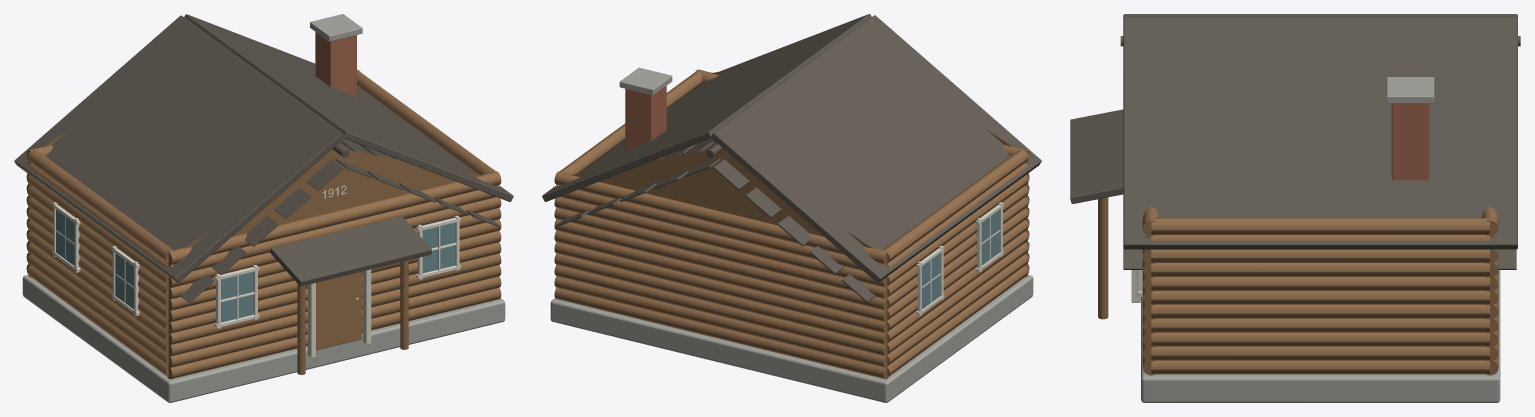
Rendered from Building_Log_Cabin_Detailed_01_Detailed.fbx.
3 views of the same model, side by side, from view 1: azimuth 30°, elevation 25°; view 2: azimuth 150°, elevation 25°; view 3: azimuth 270°, elevation 25° (orthographic). The views are drawn at different scales.
Parts seen in each view (by area): view 1: Building_Log_Cabin_Detailed_01_Roof_-1, Building_Log_Cabin_Detailed_01, Building_Log_Cabin_Detailed_01_Foundation, Building_Log_Cabin_Detailed_01_Gable_-2.93, Building_Log_Cabin_Detailed_01_PorchRoof, Building_Log_Cabin_Detailed_01_LogFB_10_-2.92, Building_Log_Cabin_Detailed_01_Door, Building_Log_Cabin_Detailed_01_LogFB_2_-2.92, Building_Log_Cabin_Detailed_01_LogFB_0_-2.92, Building_Log_Cabin_Detailed_01_LogFB_1_-2.92, Building_Log_Cabin_Detailed_01_LogFB_9_-2.92, Building_Log_Cabin_Detailed_01_LogFB_3_-2.92 (+27 smaller); view 2: Building_Log_Cabin_Detailed_01_Roof_-1, Building_Log_Cabin_Detailed_01, Building_Log_Cabin_Detailed_01_Foundation, Building_Log_Cabin_Detailed_01_Gable_2.93, Building_Log_Cabin_Detailed_01_LogFB_3_2.92, Building_Log_Cabin_Detailed_01_LogFB_0_2.92, Building_Log_Cabin_Detailed_01_LogFB_1_2.92, Building_Log_Cabin_Detailed_01_LogFB_4_2.92, Building_Log_Cabin_Detailed_01_LogFB_5_2.92, Building_Log_Cabin_Detailed_01_LogFB_2_2.92, Building_Log_Cabin_Detailed_01_LogFB_6_2.92, Building_Log_Cabin_Detailed_01_LogFB_7_2.92 (+19 smaller); view 3: Building_Log_Cabin_Detailed_01, Building_Log_Cabin_Detailed_01_Foundation, Building_Log_Cabin_Detailed_01_LogSide_10_3.92, Building_Log_Cabin_Detailed_01_LogSide_3_3.92, Building_Log_Cabin_Detailed_01_LogSide_0_3.92, Building_Log_Cabin_Detailed_01_LogSide_1_3.92, Building_Log_Cabin_Detailed_01_LogSide_2_3.92, Building_Log_Cabin_Detailed_01_LogSide_4_3.92, Building_Log_Cabin_Detailed_01_LogSide_5_3.92, Building_Log_Cabin_Detailed_01_LogSide_6_3.92, Building_Log_Cabin_Detailed_01_LogSide_7_3.92, Building_Log_Cabin_Detailed_01_LogSide_8_3.92 (+6 smaller).
Part boxes in pixels (bbox=[...]): Building_Log_Cabin_Detailed_01_Roof_-1: bbox=[14, 15, 344, 282]; Building_Log_Cabin_Detailed_01: bbox=[28, 14, 513, 302]; Building_Log_Cabin_Detailed_01_Foundation: bbox=[22, 275, 505, 402]; Building_Log_Cabin_Detailed_01_Gable_-2.93: bbox=[183, 149, 483, 248]; Building_Log_Cabin_Detailed_01_PorchRoof: bbox=[269, 216, 431, 286]; Building_Log_Cabin_Detailed_01_LogFB_10_-2.92: bbox=[167, 171, 501, 265]; Building_Log_Cabin_Detailed_01_Door: bbox=[316, 271, 362, 350]; Building_Log_Cabin_Detailed_01_LogFB_2_-2.92: bbox=[167, 265, 501, 356]; Building_Log_Cabin_Detailed_01_LogFB_0_-2.92: bbox=[167, 288, 501, 379]; Building_Log_Cabin_Detailed_01_LogFB_1_-2.92: bbox=[167, 276, 501, 367]; Building_Log_Cabin_Detailed_01_LogFB_9_-2.92: bbox=[167, 185, 500, 271]; Building_Log_Cabin_Detailed_01_LogFB_3_-2.92: bbox=[167, 253, 501, 344]; Building_Log_Cabin_Detailed_01_Roof_-1: bbox=[711, 15, 1041, 282]; Building_Log_Cabin_Detailed_01: bbox=[542, 14, 1028, 302]; Building_Log_Cabin_Detailed_01_Foundation: bbox=[550, 275, 1033, 402]; Building_Log_Cabin_Detailed_01_Gable_2.93: bbox=[572, 149, 872, 248]; Building_Log_Cabin_Detailed_01_LogFB_3_2.92: bbox=[554, 253, 888, 344]; Building_Log_Cabin_Detailed_01_LogFB_0_2.92: bbox=[554, 287, 888, 379]; Building_Log_Cabin_Detailed_01_LogFB_1_2.92: bbox=[554, 276, 888, 367]; Building_Log_Cabin_Detailed_01_LogFB_4_2.92: bbox=[554, 242, 888, 333]; Building_Log_Cabin_Detailed_01_LogFB_5_2.92: bbox=[554, 230, 888, 322]; Building_Log_Cabin_Detailed_01_LogFB_2_2.92: bbox=[554, 265, 888, 356]; Building_Log_Cabin_Detailed_01_LogFB_6_2.92: bbox=[554, 219, 888, 310]; Building_Log_Cabin_Detailed_01_LogFB_7_2.92: bbox=[554, 208, 888, 299]; Building_Log_Cabin_Detailed_01: bbox=[1123, 17, 1517, 269]; Building_Log_Cabin_Detailed_01_Foundation: bbox=[1141, 270, 1500, 402]; Building_Log_Cabin_Detailed_01_LogSide_10_3.92: bbox=[1151, 217, 1489, 234]; Building_Log_Cabin_Detailed_01_LogSide_3_3.92: bbox=[1151, 318, 1489, 332]; Building_Log_Cabin_Detailed_01_LogSide_0_3.92: bbox=[1151, 360, 1489, 374]; Building_Log_Cabin_Detailed_01_LogSide_1_3.92: bbox=[1151, 346, 1489, 360]; Building_Log_Cabin_Detailed_01_LogSide_2_3.92: bbox=[1151, 332, 1489, 346]; Building_Log_Cabin_Detailed_01_LogSide_4_3.92: bbox=[1151, 304, 1489, 318]; Building_Log_Cabin_Detailed_01_LogSide_5_3.92: bbox=[1151, 291, 1489, 304]; Building_Log_Cabin_Detailed_01_LogSide_6_3.92: bbox=[1151, 277, 1489, 290]; Building_Log_Cabin_Detailed_01_LogSide_7_3.92: bbox=[1151, 263, 1489, 276]; Building_Log_Cabin_Detailed_01_LogSide_8_3.92: bbox=[1151, 249, 1489, 262].
Size of the model in its own units: 824 by 548 by 777.
